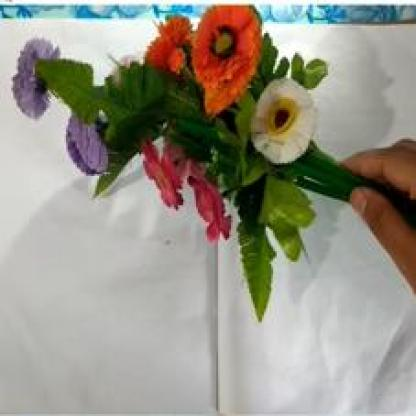flower: (27, 5, 366, 317)
